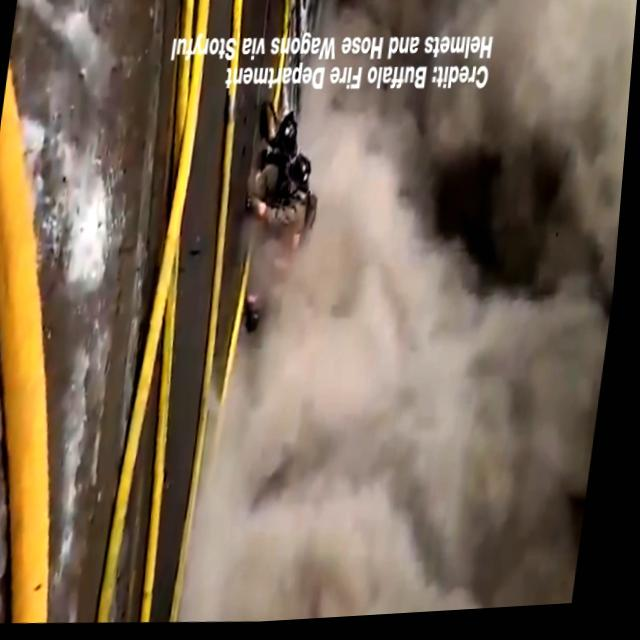no_helmet: (184, 234, 623, 630)
